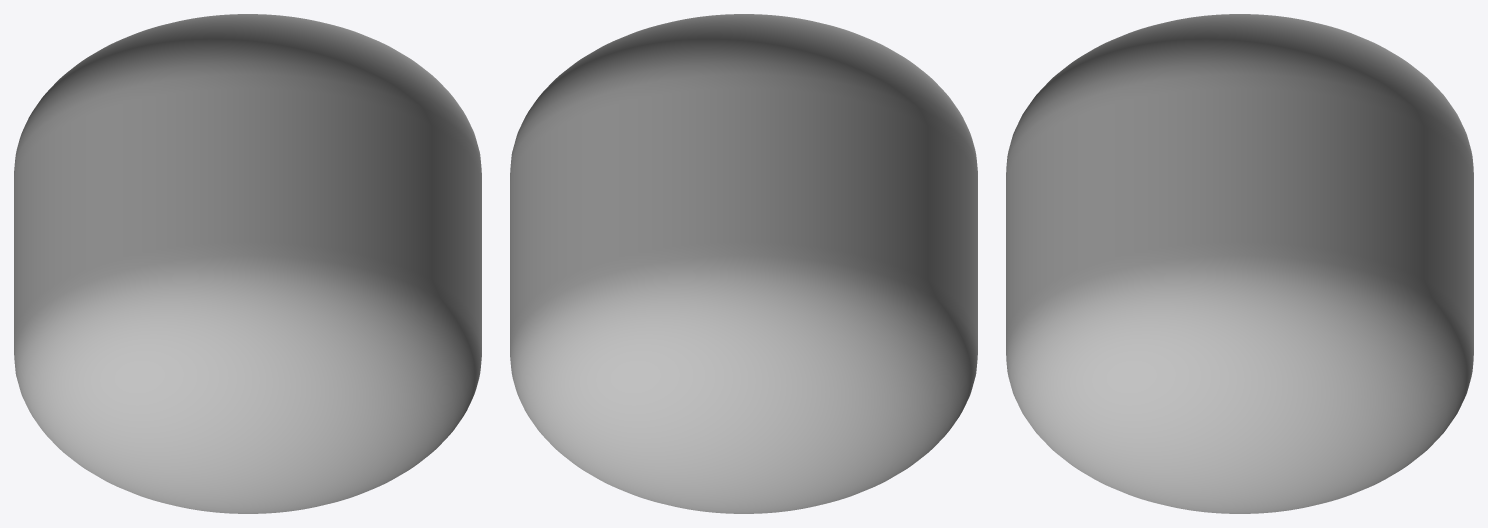
3 renders of one model, left to right at view 1: azimuth 30°, elevation 25°; view 2: azimuth 150°, elevation 25°; view 3: azimuth 270°, elevation 25°, orthographic.
Parts seen in each view (by area): view 1: object; view 2: object; view 3: object.
Boxes of the visible parts, x1,y1,x2,y2 form: object: [14, 14, 481, 513]; object: [510, 14, 977, 513]; object: [1006, 14, 1473, 513].
Bounding box in the file's own units: 199 × 203 × 199.
1 material, 1 textured.
